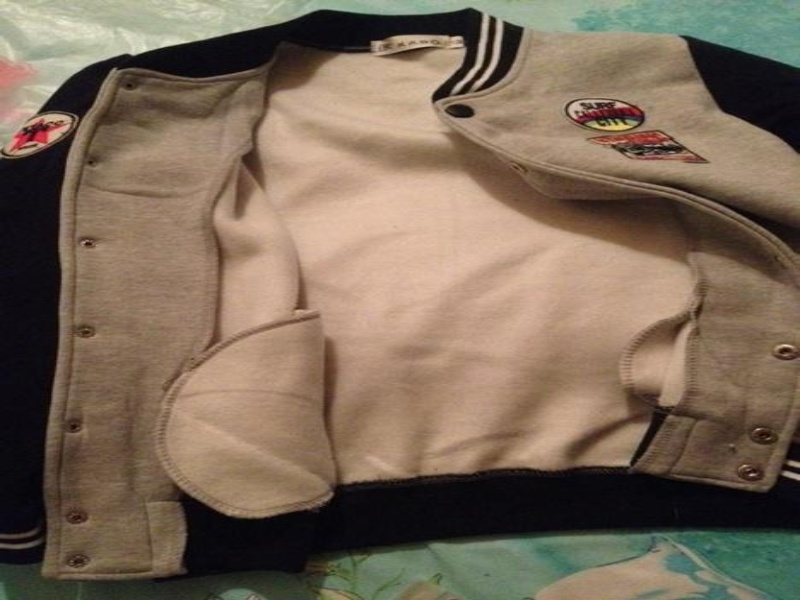long_sleeved_outwear: (5, 9, 798, 591)
